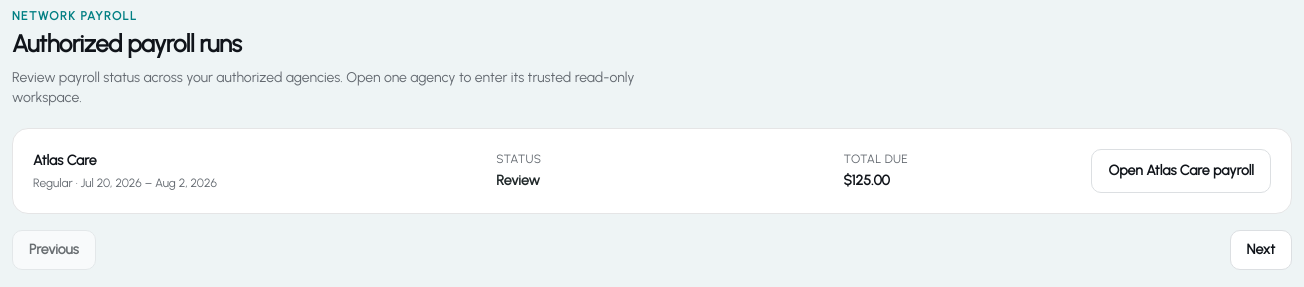
Test: NetworkPayrollRunsWorkspace › navigates bounded cursor pages without mounting multiple network lists
The width and height of the screenshot is (1304, 287).
Expected: the number of lists named "Authorized network payroll runs" is 1, [33, 149, 1271, 193]
Step 1. Click the button with aria-label "Next network payroll page" → (1261, 250), box [1230, 230, 1292, 270]
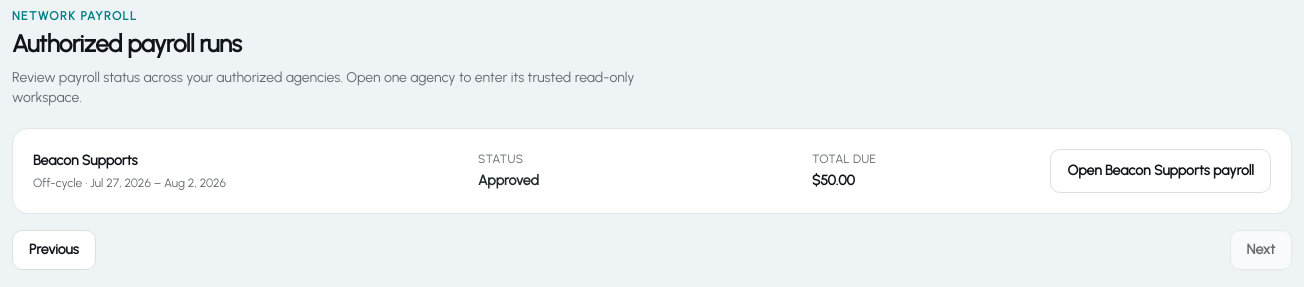
Expected: the list item "Beacon Supports" is shown, [33, 149, 1271, 193]
Step 2. Click the button with aria-label "Previous network payroll page" → (54, 250), box [12, 230, 96, 270]
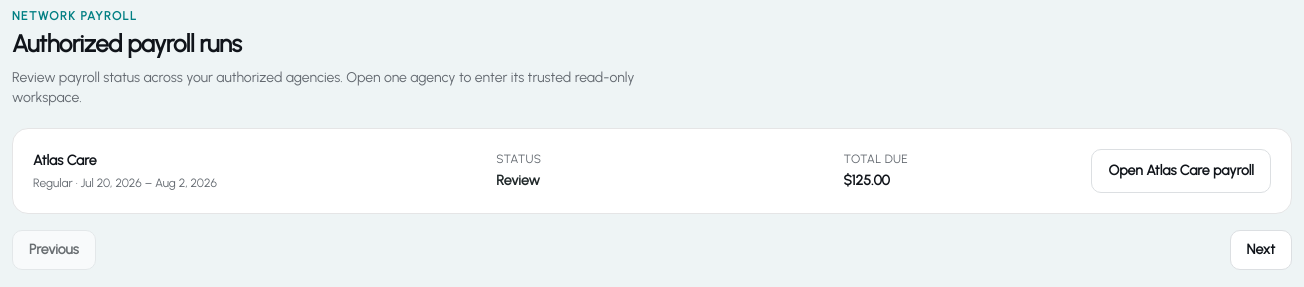
Expected: the list item "Atlas Care" is shown, [33, 149, 1271, 193]
